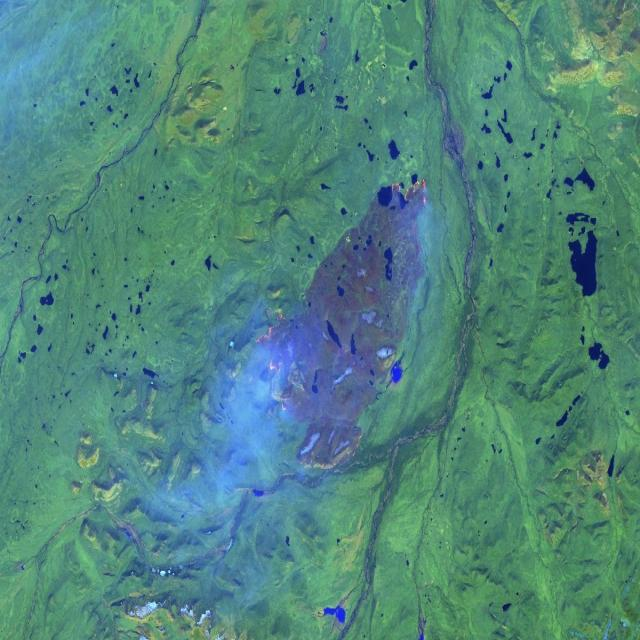fire: (256, 305, 293, 417), (389, 168, 431, 216)
